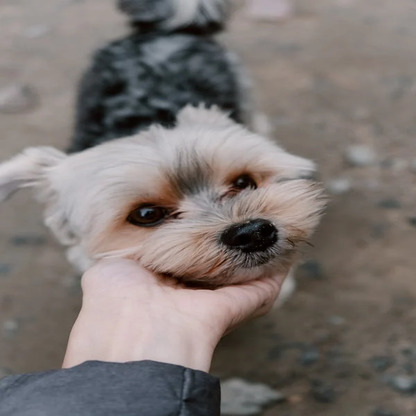yorkshire: (10, 2, 330, 286)
